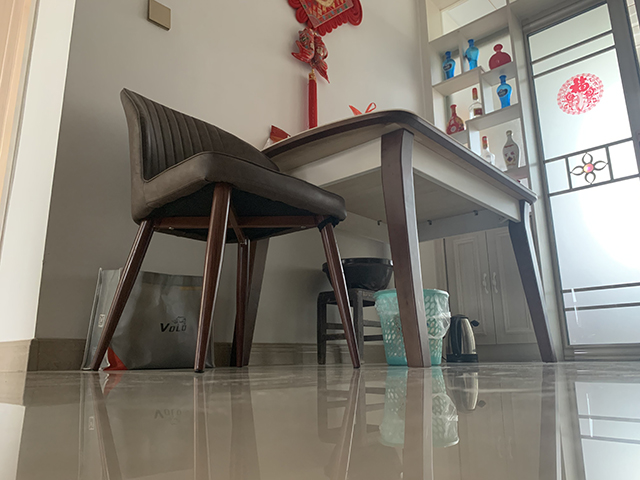cabinet: (422, 208, 547, 364)
stool: (92, 86, 362, 373), (316, 290, 385, 366)
table: (231, 107, 562, 369)
trashcan: (373, 287, 449, 368)
